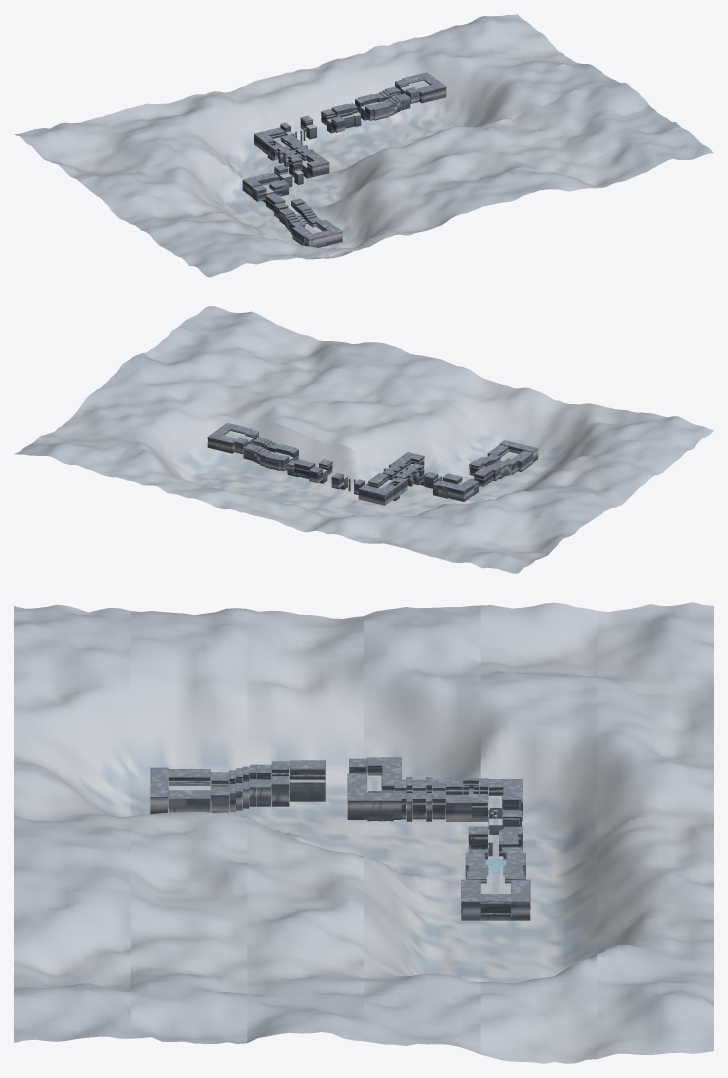
Rendered from summit_climb_terrain.glb.
3 renders of one model, top to bottom at view 1: azimuth 30°, elevation 25°; view 2: azimuth 150°, elevation 25°; view 3: azimuth 270°, elevation 25°, orthographic. The views are drawn at different scales.
Parts seen in each view (by area): view 1: backdrop_5, backdrop_4, backdrop_2, backdrop_1, backdrop_0, backdrop_3, terrain_G, terrain_I, terrain_E, terrain_D, terrain_J, terrain_A (+3 smaller); view 2: backdrop_0, backdrop_1, backdrop_3, backdrop_2, backdrop_5, backdrop_4, terrain_G, terrain_I, terrain_J, terrain_D, terrain_E, terrain_A (+3 smaller); view 3: backdrop_5, backdrop_0, backdrop_4, backdrop_1, backdrop_2, backdrop_3, terrain_E, terrain_B, terrain_J, terrain_G, terrain_A, terrain_C (+3 smaller).
Boxes of the visible parts, x1,y1,x2,y2 form: backdrop_5: (14, 14, 550, 161); backdrop_4: (49, 43, 582, 181); backdrop_2: (112, 80, 648, 238); backdrop_1: (145, 104, 680, 259); backdrop_0: (178, 127, 713, 277); backdrop_3: (79, 64, 615, 213); terrain_G: (254, 109, 344, 150); terrain_I: (355, 86, 410, 120); terrain_E: (278, 143, 329, 178); terrain_D: (242, 163, 303, 197); terrain_J: (395, 72, 446, 103); terrain_A: (292, 219, 342, 247); backdrop_0: (178, 306, 713, 459); backdrop_1: (145, 327, 680, 486); backdrop_3: (79, 377, 614, 525); backdrop_2: (112, 353, 648, 507); backdrop_5: (14, 434, 549, 573); backdrop_4: (47, 408, 582, 553); terrain_G: (309, 459, 394, 505); terrain_I: (243, 437, 298, 470); terrain_J: (207, 422, 258, 453); terrain_D: (412, 471, 473, 501); terrain_E: (382, 452, 424, 486); terrain_A: (487, 440, 538, 471); backdrop_5: (597, 602, 713, 1058); backdrop_0: (14, 604, 130, 1042); backdrop_4: (480, 602, 597, 1063); backdrop_1: (130, 608, 247, 1044); backdrop_2: (247, 609, 363, 1042); backdrop_3: (364, 605, 480, 1054); terrain_E: (347, 777, 445, 821); terrain_B: (211, 761, 289, 812); terrain_J: (461, 871, 530, 920); terrain_G: (468, 779, 522, 856); terrain_A: (150, 767, 210, 814); terrain_C: (289, 758, 366, 801).
Bounding box in the file's own units: 686 × 67.35 × 462.
